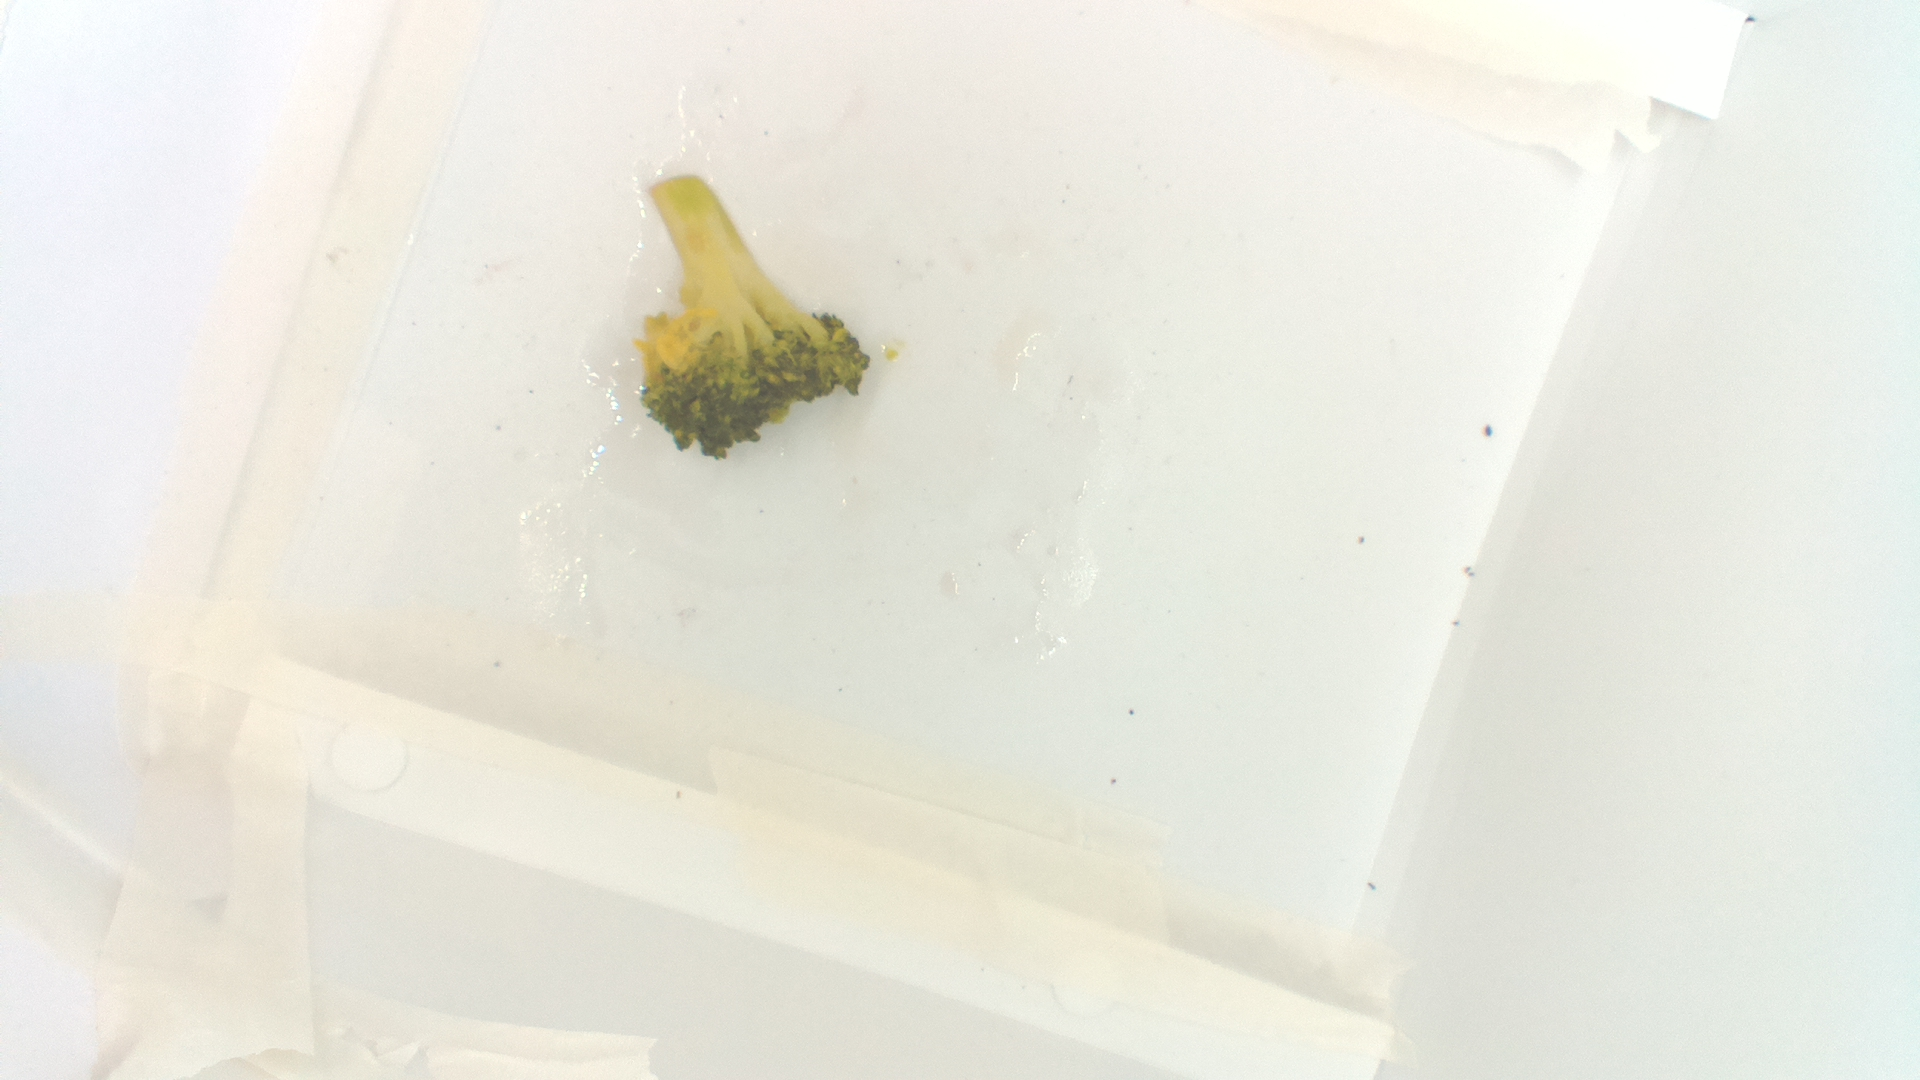vegetable: (632, 175, 876, 460)
